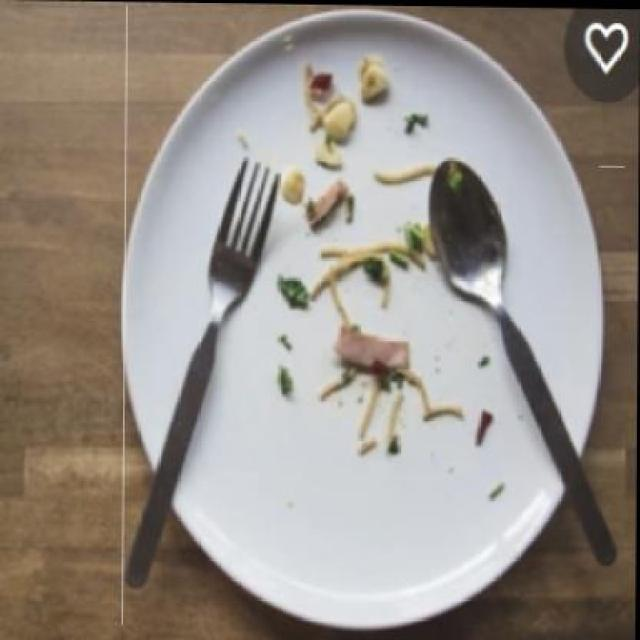Plate: (123, 5, 602, 631)
